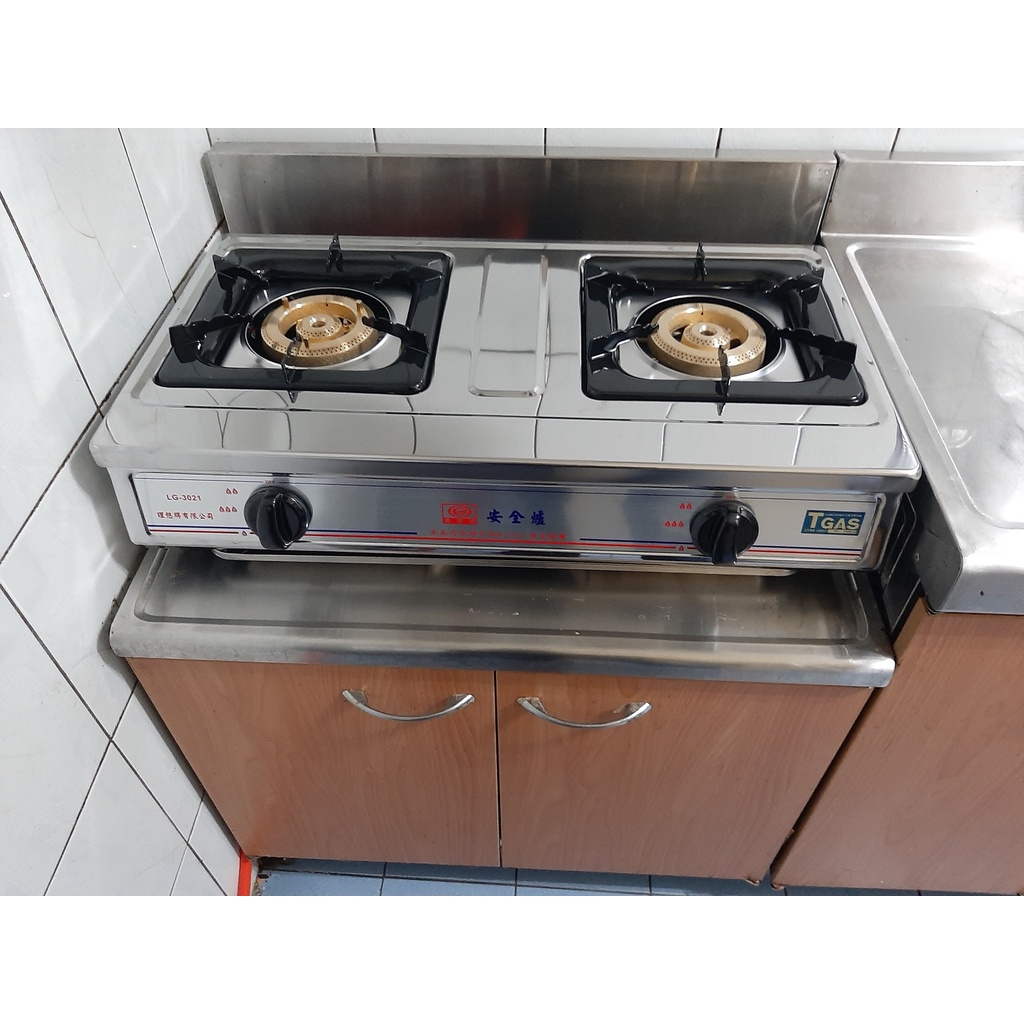gasoven: (88, 216, 935, 603)
